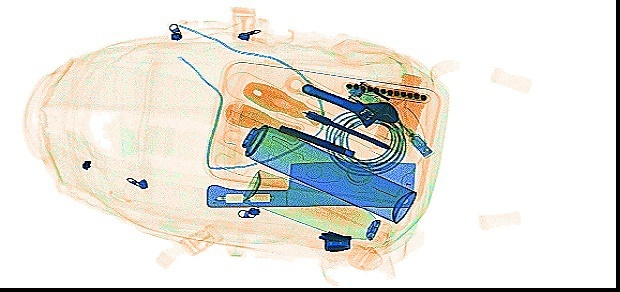knife: (205, 160, 416, 207)
pressure: (212, 110, 417, 225), (241, 166, 390, 246)
